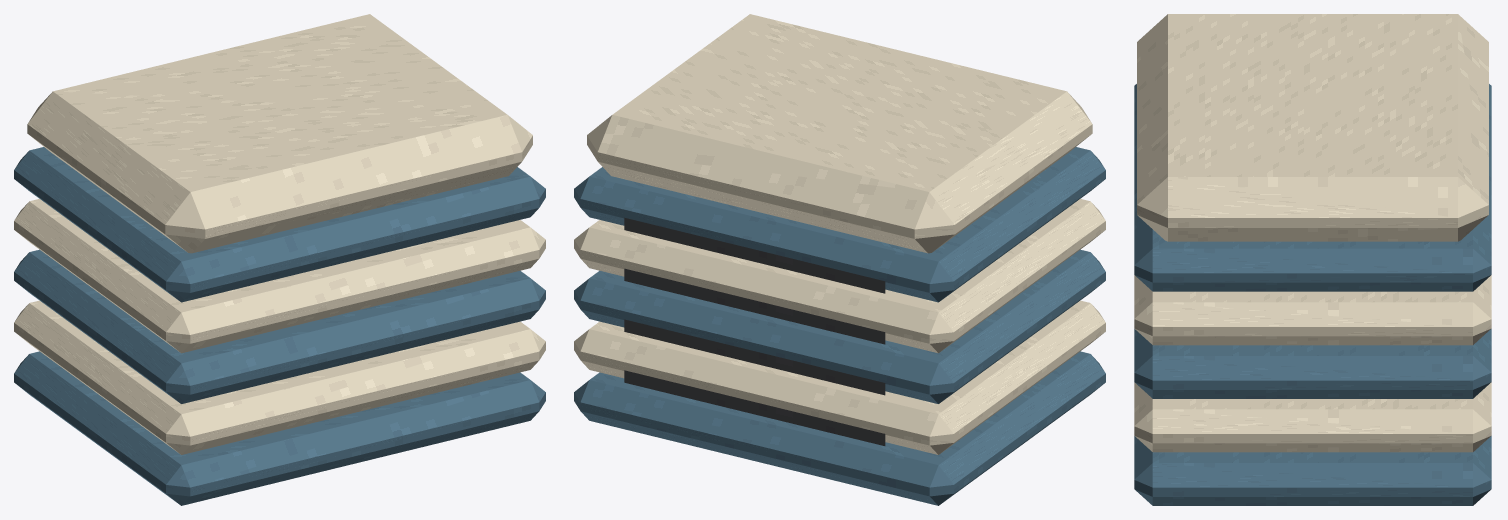
Rendered from dehydrator.glb.
3 views of the same model, side by side, from view 1: azimuth 30°, elevation 25°; view 2: azimuth 150°, elevation 25°; view 3: azimuth 270°, elevation 25° (orthographic). The views are drawn at different scales.
Visible parts, largest first — view 1: block_vented drying tray (×5), block_dehydrator upper case; view 2: block_vented drying tray (×5), block_dehydrator upper case, block_vent (×4); view 3: block_vented drying tray (×5), block_dehydrator upper case.
Boxes of the visible parts, <box> form: block_vented drying tray (×5): <box>14,147,545,505</box>; block_dehydrator upper case: <box>27,14,532,253</box>; block_vented drying tray (×5): <box>574,147,1105,505</box>; block_dehydrator upper case: <box>587,14,1092,253</box>; block_vent (×4): <box>624,217,885,445</box>; block_vented drying tray (×5): <box>1134,84,1491,505</box>; block_dehydrator upper case: <box>1137,14,1488,241</box>.
Bounding box in the file's own units: 0.4468 × 0.3424 × 0.3477.
Materials: 1 (1 with a texture image).
